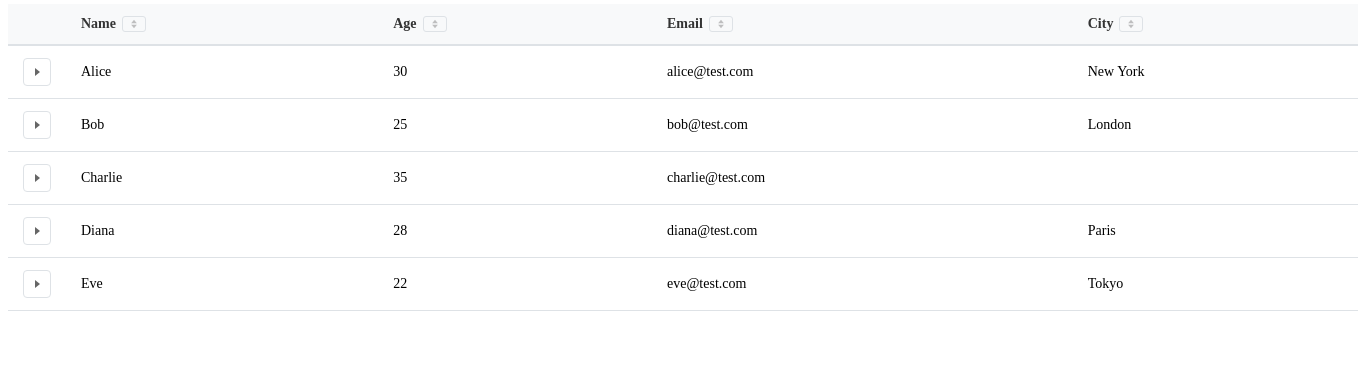
Test: Priority 2 developer experience features › renders expandable rows and toggles expanded content
Expected: the text "Details for Alice" is not shown
Click the button named "Expand row 1".
click(37, 72)  # box [23, 58, 51, 86]
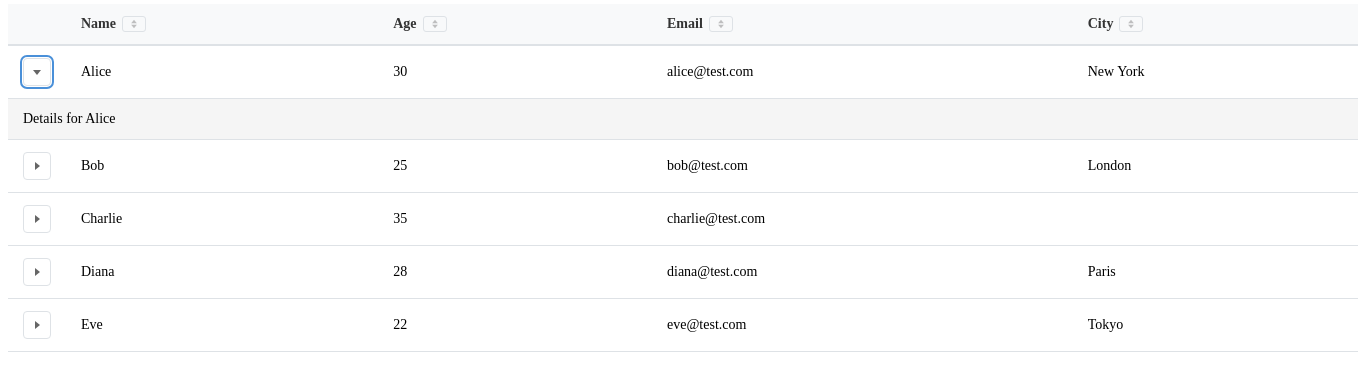
Now the text "Details for Alice" is shown, box [23, 111, 116, 126]
